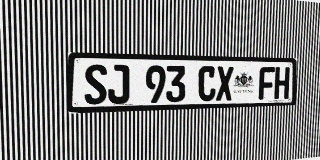3: (166, 65, 185, 102)
9: (146, 65, 166, 103)
C: (198, 66, 216, 101)
F: (259, 67, 275, 100)
H: (274, 67, 290, 99)
J: (108, 65, 129, 104)
S: (84, 64, 107, 105)
X: (216, 66, 234, 101)
